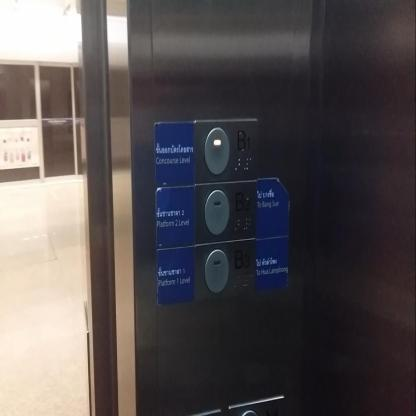B1: (193, 116, 263, 184)
B2: (193, 180, 260, 245)
B3: (192, 235, 259, 300)
